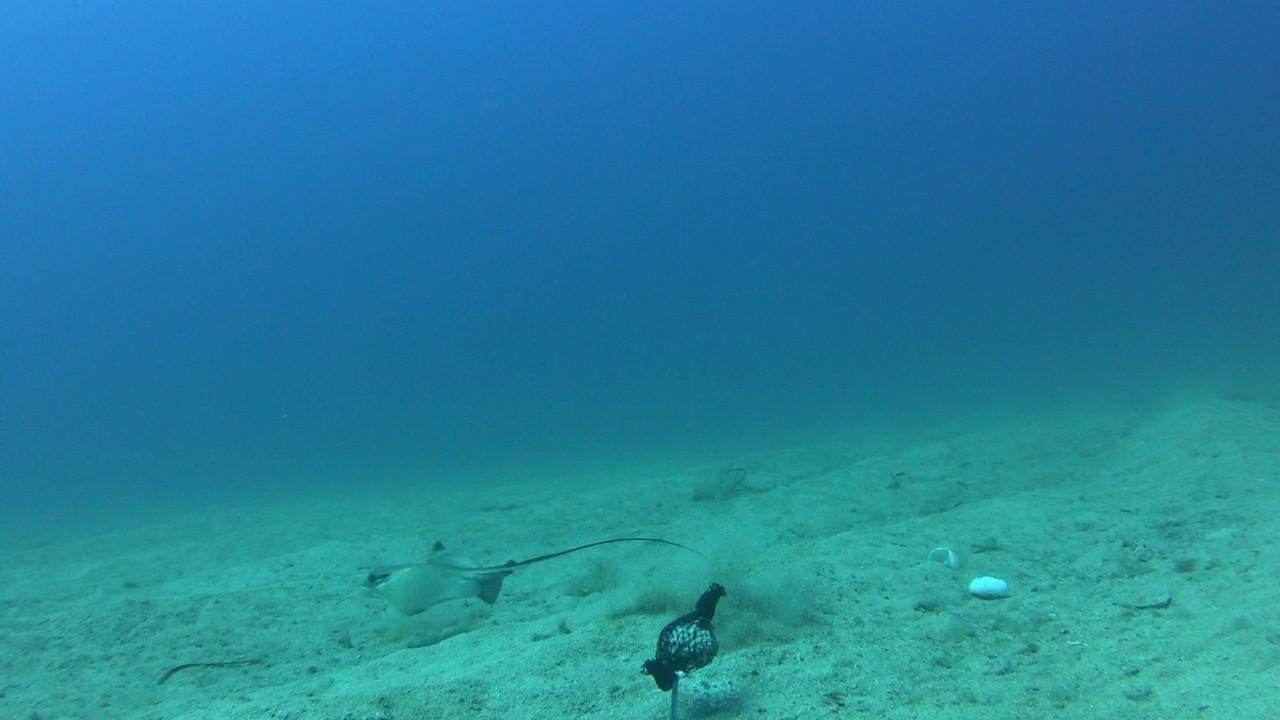myliobatis: (339, 516, 714, 623)
